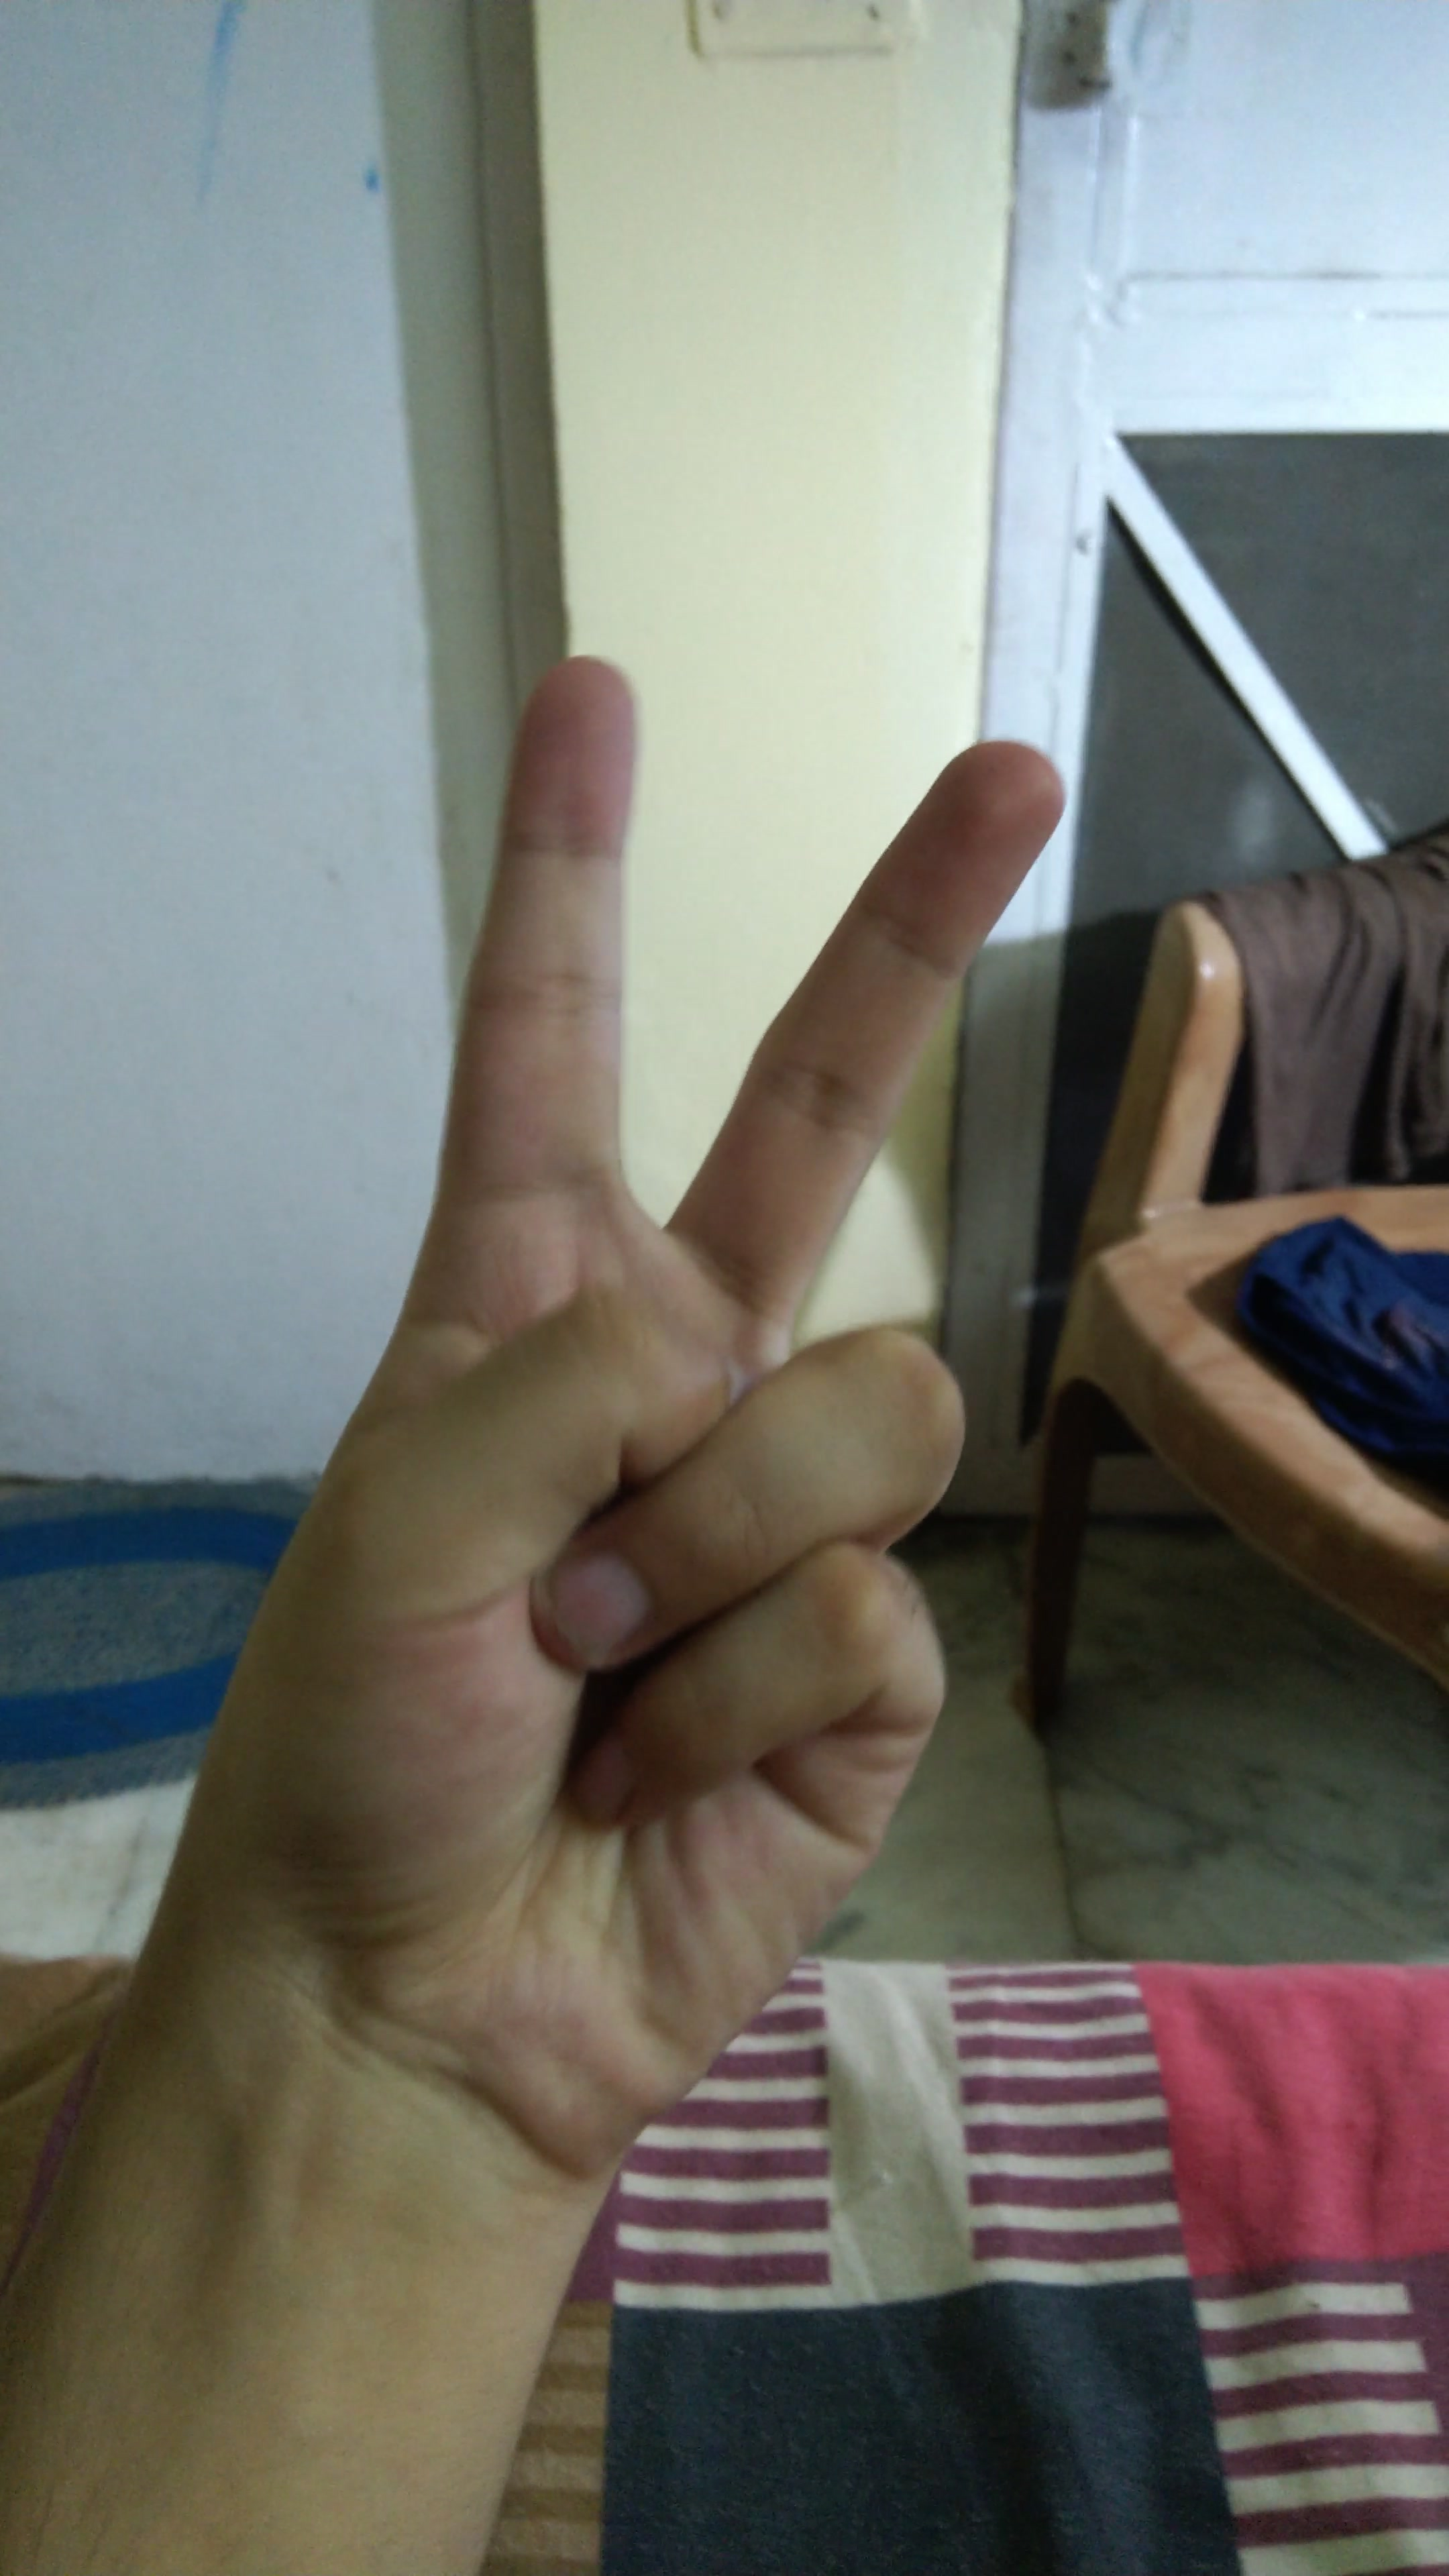hand: (145, 586, 1159, 2141)
